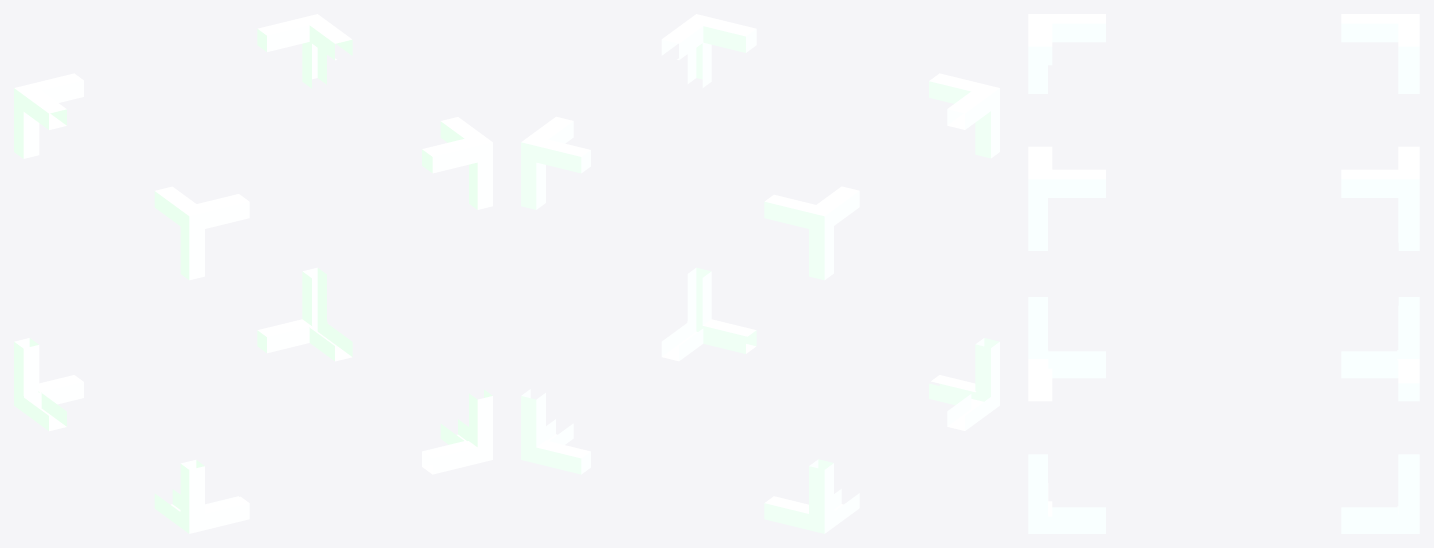
File: selector.glb
3 renders of one model, left to right at view 1: azimuth 30°, elevation 25°; view 2: azimuth 150°, elevation 25°; view 3: azimuth 270°, elevation 25°, orthographic. The views are drawn at different scales.
Visible parts, largest first — view 1: Cube; view 2: Cube; view 3: Cube.
Part boxes in pixels (x1=…): Cube: x1=14, y1=14, x2=492, y2=533; Cube: x1=521, y1=14, x2=999, y2=533; Cube: x1=1028, y1=14, x2=1419, y2=533.
Bounding box in the file's own units: 2 × 2 × 2.
